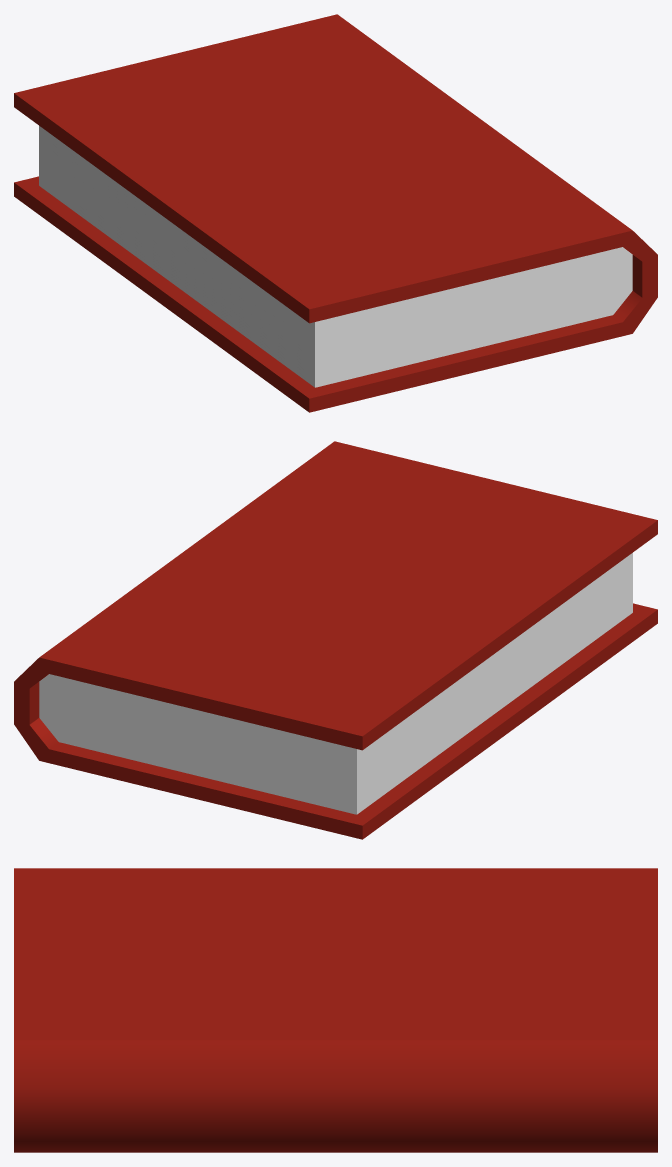
The model's file is SM_Small_Book_01.fbx.
The picture shows the model from 3 angles, top to bottom: view 1: azimuth 30°, elevation 25°; view 2: azimuth 150°, elevation 25°; view 3: azimuth 270°, elevation 25°; orthographic projection. The views are drawn at different scales.
Visible parts, largest first — view 1: Small Book; view 2: Small Book; view 3: Small Book.
Part boxes in pixels (x1,y1,x2,y2): Small Book: [14, 14, 657, 412]; Small Book: [14, 441, 657, 839]; Small Book: [14, 868, 657, 1152].
Size of the model in its own units: 20.13 by 5.7 by 29.55.
